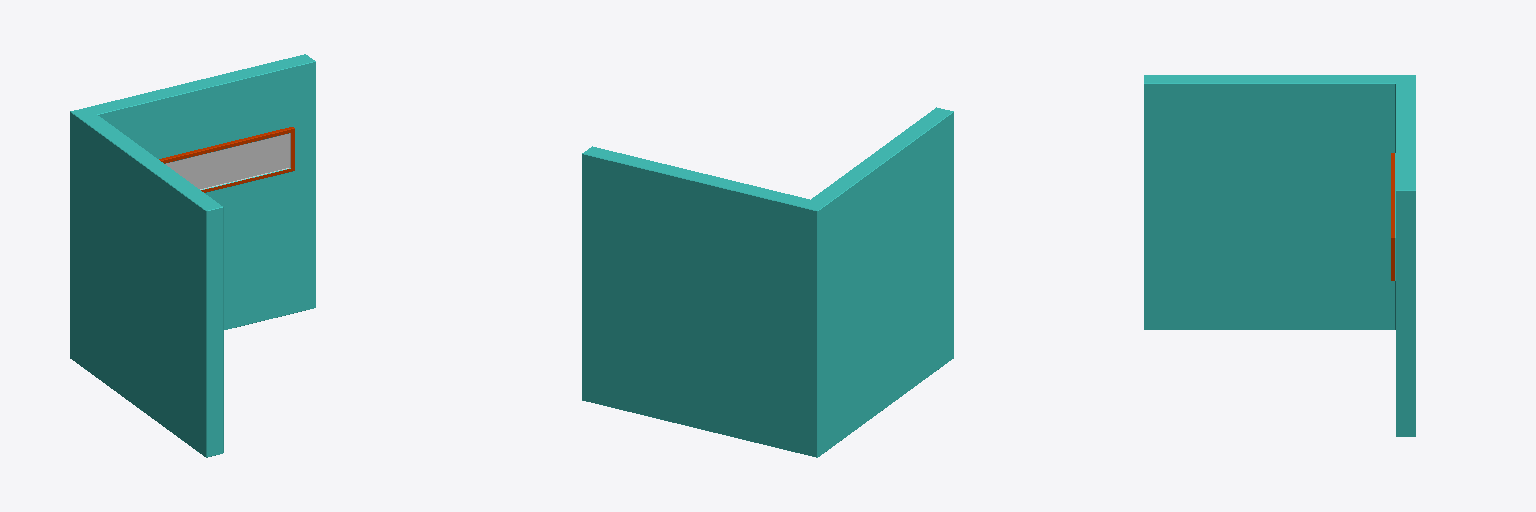
File: wall.obj
3 renders of one model, left to right at view 1: azimuth 30°, elevation 25°; view 2: azimuth 150°, elevation 25°; view 3: azimuth 270°, elevation 25°, orthographic.
Visible parts, largest first — view 1: Cube; view 2: Cube; view 3: Cube.
Part boxes in pixels (bbox=[...]): Cube: bbox=[70, 54, 315, 457]; Cube: bbox=[582, 107, 953, 457]; Cube: bbox=[1144, 75, 1415, 436].
Bounding box in the file's own units: 6.02 × 6.02 × 6.02.